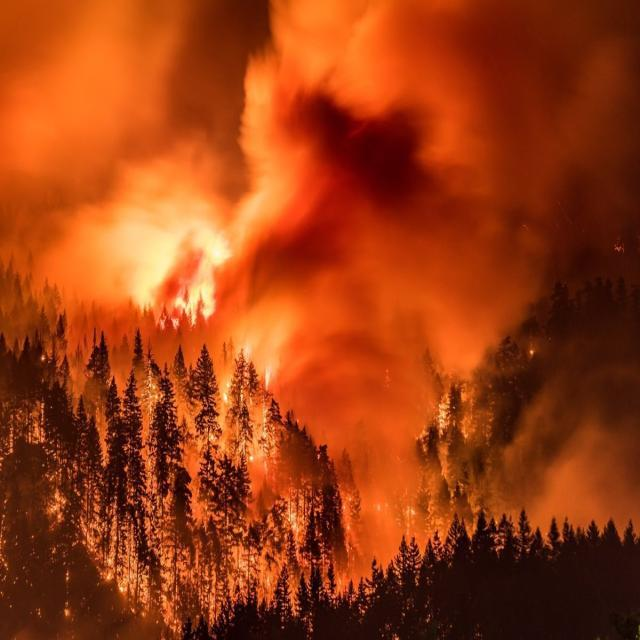Fire: (8, 362, 324, 632)
Smoke: (254, 22, 630, 466)
